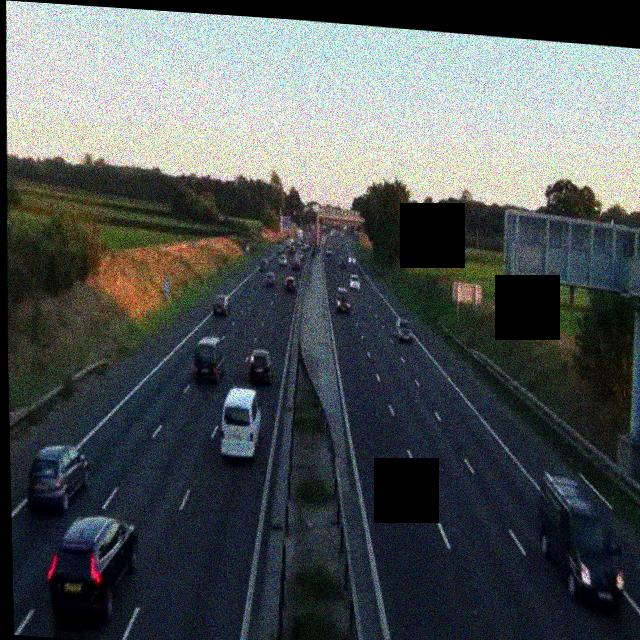car: (536, 471, 625, 610), (45, 511, 139, 627), (25, 443, 90, 516), (219, 385, 261, 461), (192, 335, 228, 385), (247, 348, 274, 386), (395, 317, 413, 343), (211, 293, 229, 316), (334, 288, 350, 313), (348, 273, 359, 292), (265, 271, 276, 288), (284, 275, 295, 291), (293, 255, 302, 270), (254, 257, 264, 269), (347, 254, 356, 266), (325, 245, 332, 257)
